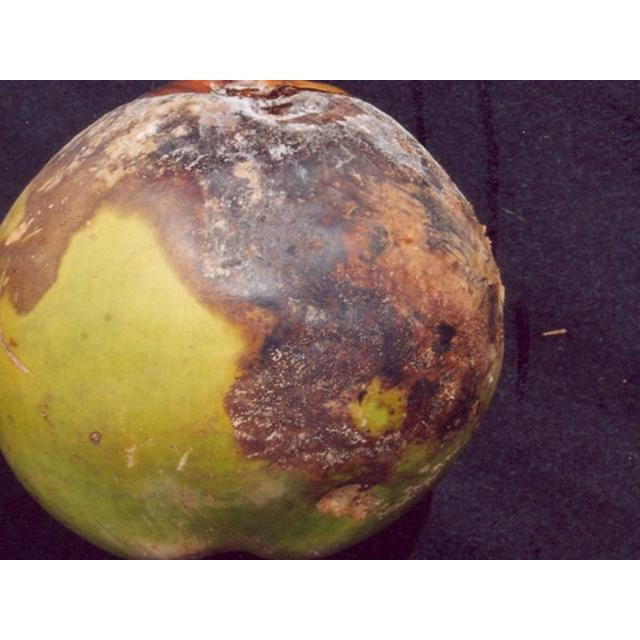damaged: (0, 80, 506, 559)
